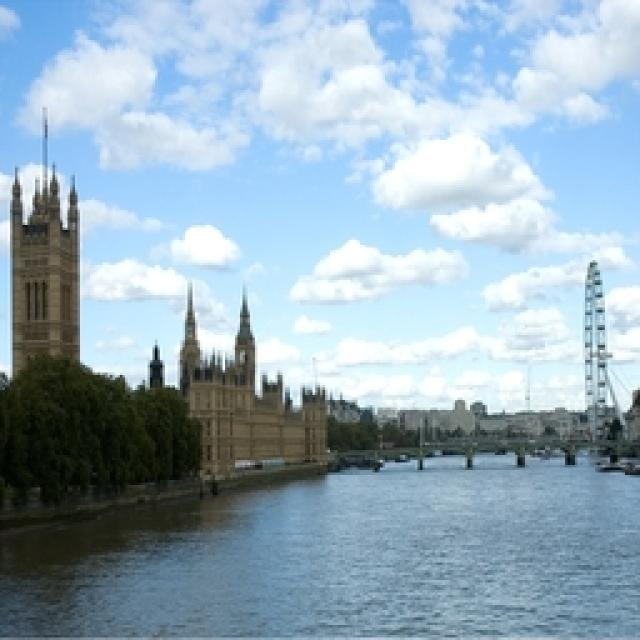Abbey: (12, 101, 106, 387)
